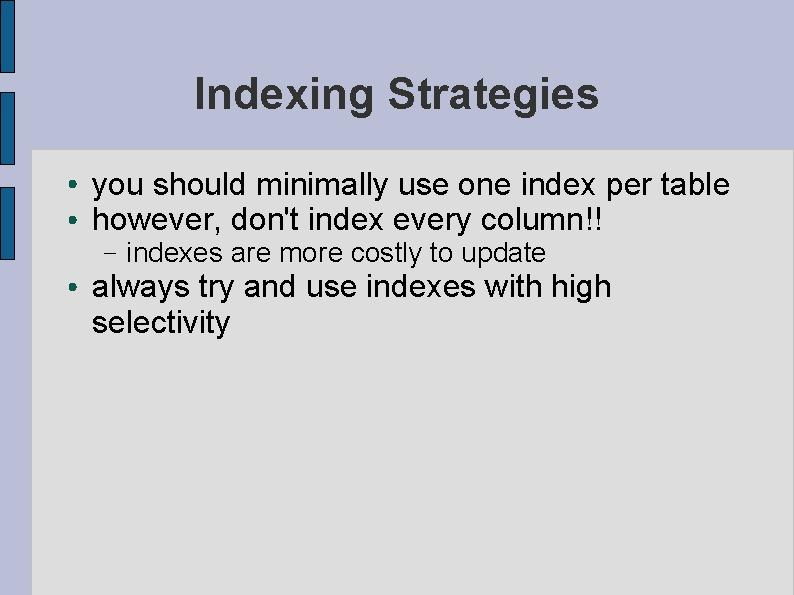paragraph: (84, 157, 756, 358)
title: (190, 66, 615, 125)
